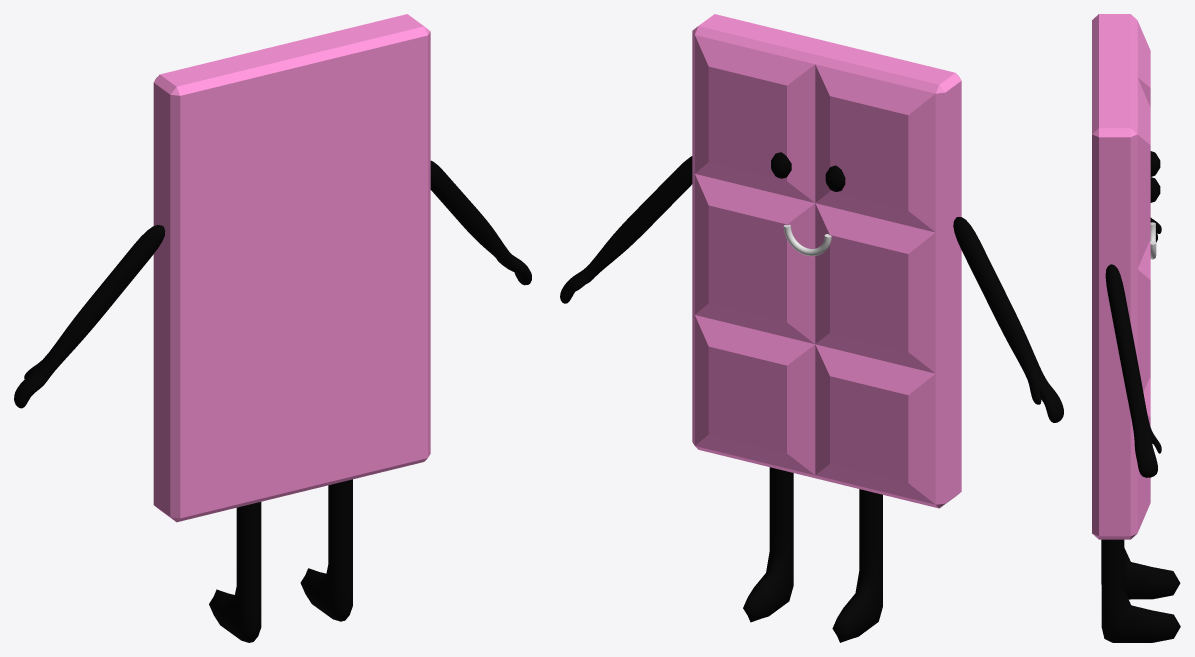
The model's file is Chocolate Bar - Pink.FBX.
The picture shows the model from 3 angles, left to right: view 1: azimuth 30°, elevation 25°; view 2: azimuth 150°, elevation 25°; view 3: azimuth 270°, elevation 25°; orthographic projection. The views are drawn at different scales.
Parts seen in each view (by area): view 1: Box001 (×2), Box004, Box002, Box003; view 2: Box001 (×2), Box004, Box002, Box003; view 3: Box001 (×2), Box003, Box002, Arc001, Sphere002, Sphere001.
Boxes of the visible parts, x1=… form: Box001 (×2): x1=153, y1=14, x2=430, y2=621; Box004: x1=14, y1=225, x2=165, y2=408; Box002: x1=209, y1=502, x2=261, y2=642; Box003: x1=430, y1=160, x2=531, y2=285; Box001 (×2): x1=692, y1=14, x2=961, y2=622; Box004: x1=953, y1=217, x2=1063, y2=422; Box002: x1=832, y1=489, x2=882, y2=642; Box003: x1=560, y1=156, x2=692, y2=303; Box001 (×2): x1=1092, y1=14, x2=1180, y2=642; Box003: x1=1105, y1=264, x2=1161, y2=477; Box002: x1=1101, y1=540, x2=1180, y2=599; Arc001: x1=1150, y1=222, x2=1156, y2=259; Sphere002: x1=1150, y1=151, x2=1160, y2=176; Sphere001: x1=1150, y1=177, x2=1160, y2=202.
Size of the model in its own units: 24.7 by 26.73 by 3.91.
